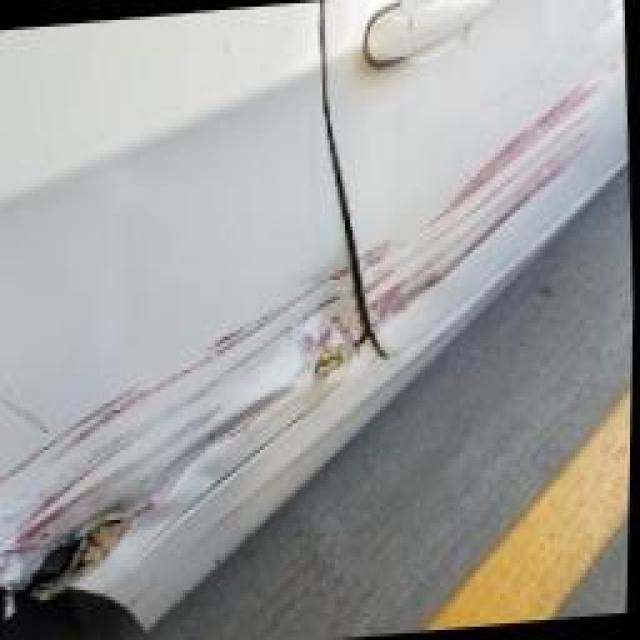Door: (0, 247, 396, 627), (352, 43, 635, 330)
